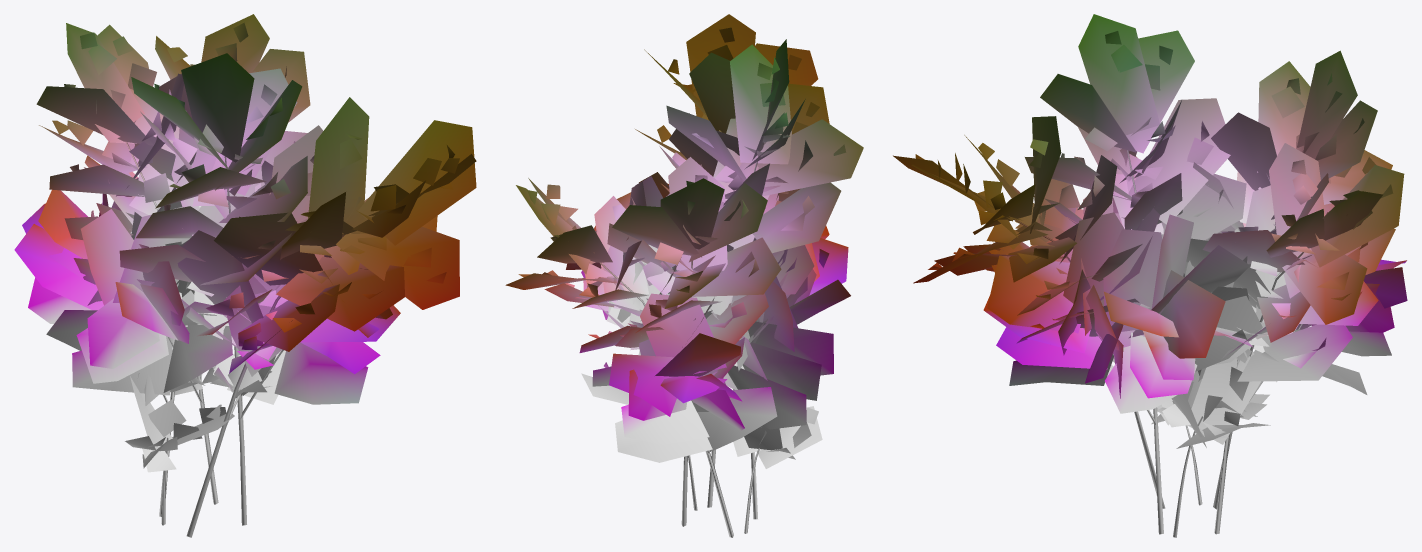
File: arden_forest_hazel_04.fbx
3 renders of one model, left to right at view 1: azimuth 30°, elevation 25°; view 2: azimuth 150°, elevation 25°; view 3: azimuth 270°, elevation 25°, orthographic. The views are drawn at different scales.
Parts seen in each view (by area): view 1: arden_forest_hazel_04; view 2: arden_forest_hazel_04; view 3: arden_forest_hazel_04.
Boxes of the visible parts, x1=… form: arden_forest_hazel_04: x1=14, y1=14, x2=476, y2=537; arden_forest_hazel_04: x1=505, y1=14, x2=863, y2=537; arden_forest_hazel_04: x1=893, y1=14, x2=1407, y2=537.
Size of the model in its own units: 2.24 by 3.45 by 3.66.
